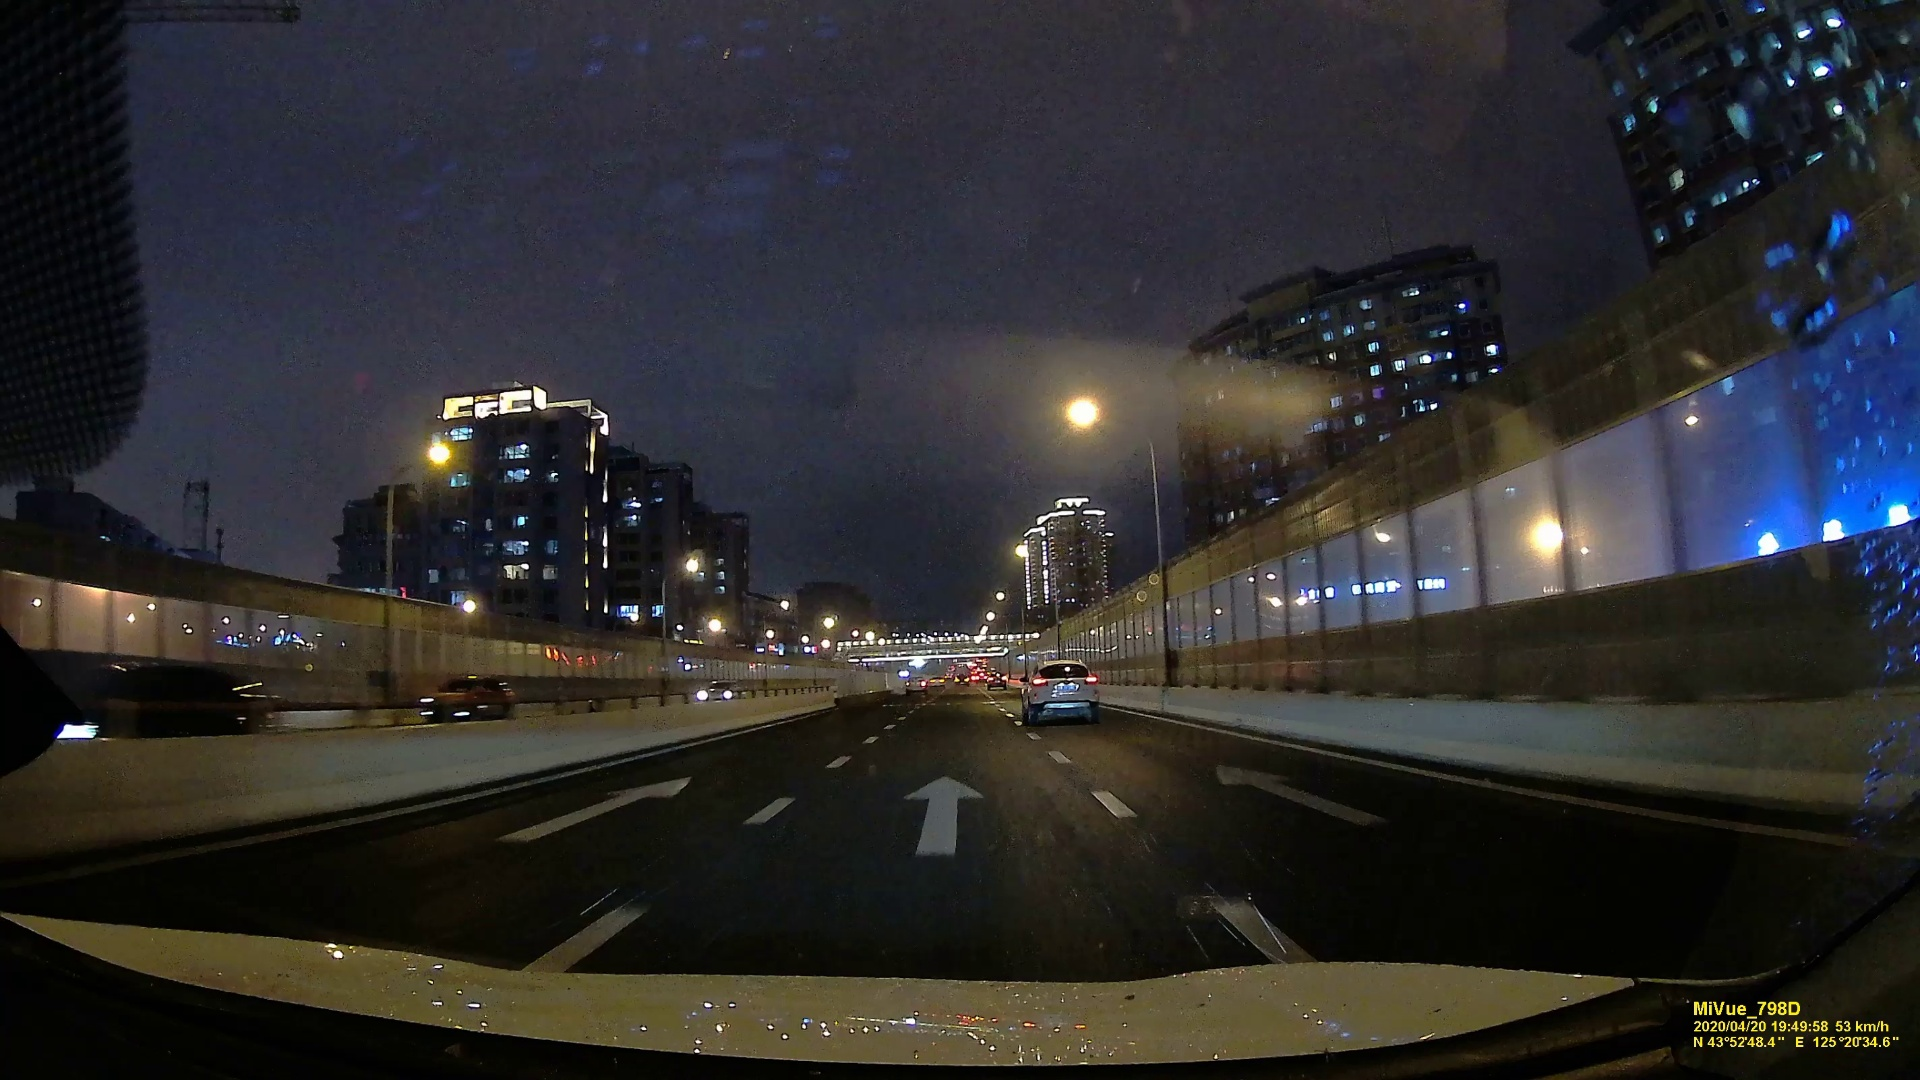vehicle: (1023, 658, 1100, 724), (421, 674, 514, 719), (694, 679, 744, 703), (905, 675, 927, 694)
